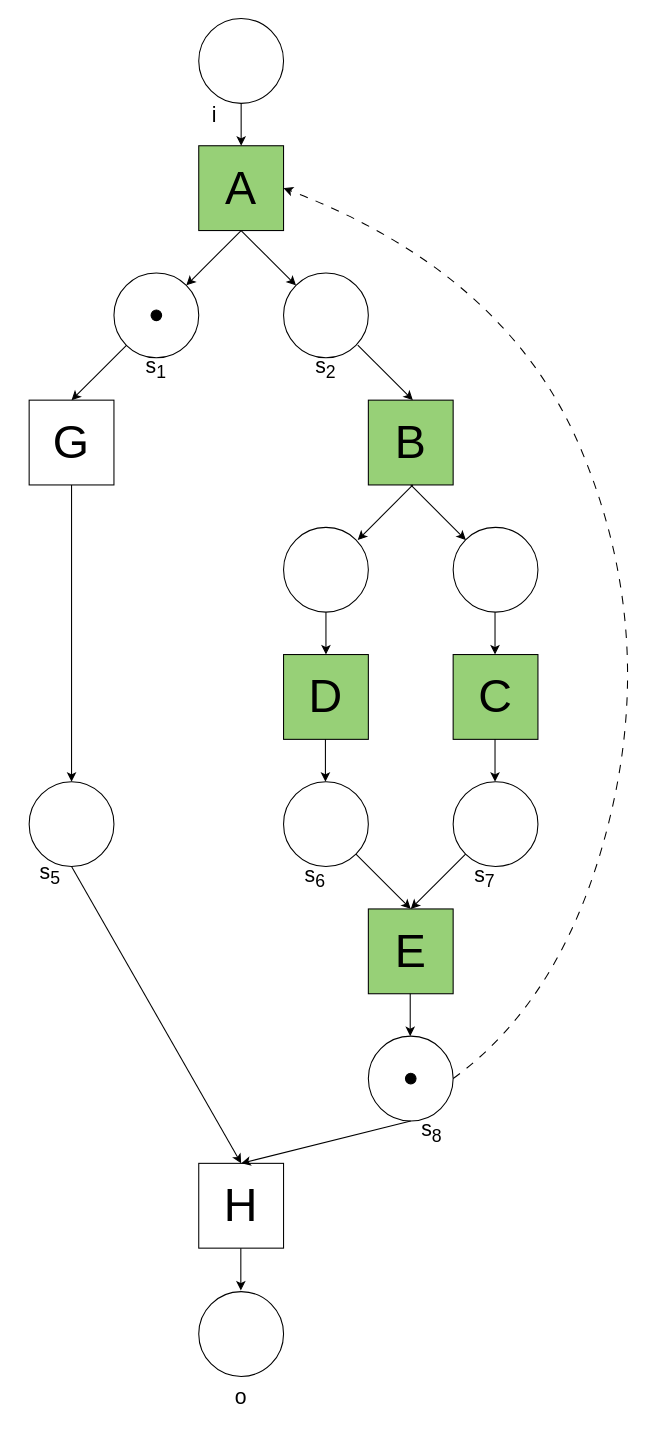
Some shapes in this 647 by 1436 pixel diagram are drawn without their labels. The box of each missing label's shape, as (x1, y1, x2, y2) in pixels:
s 3: (282, 526, 368, 612)
s 4: (452, 526, 538, 612)
